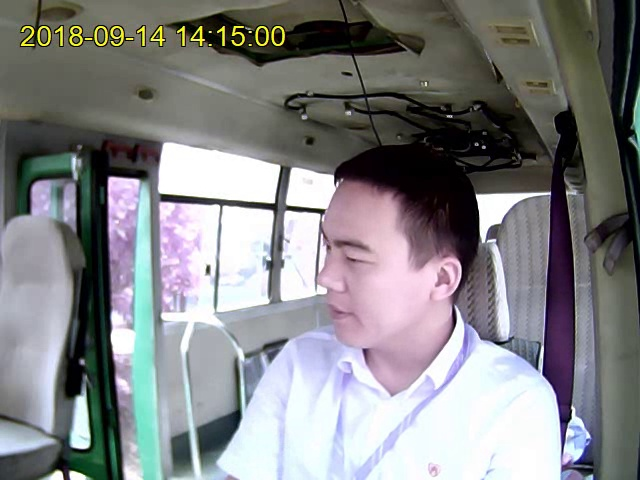closed_mouth: (325, 299, 351, 324)
